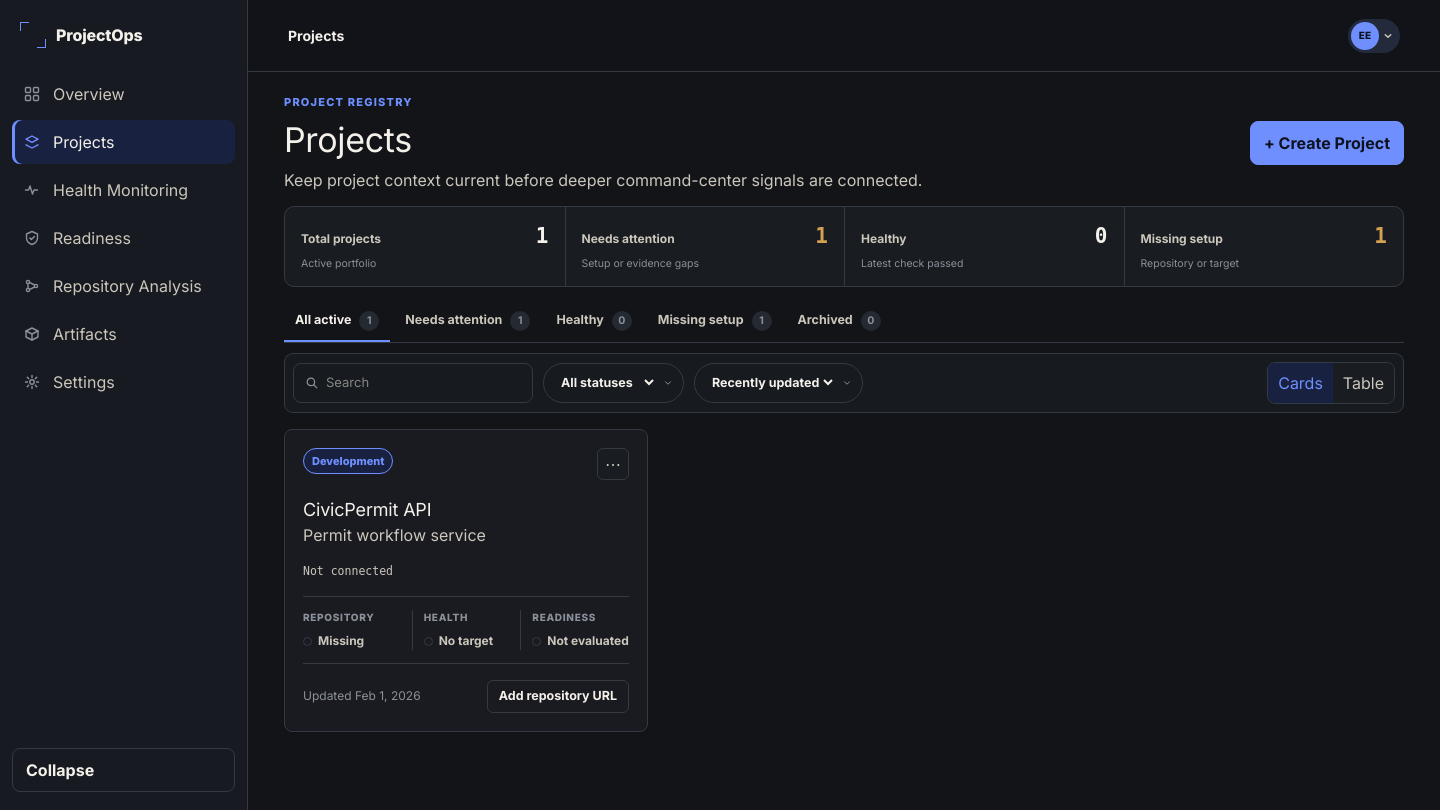
Archive Project flow › closes on Cancel without archiving
The image size is (1440, 810).
Click the button named "More actions for CivicPermit API": (613, 464) [597, 448, 629, 480]
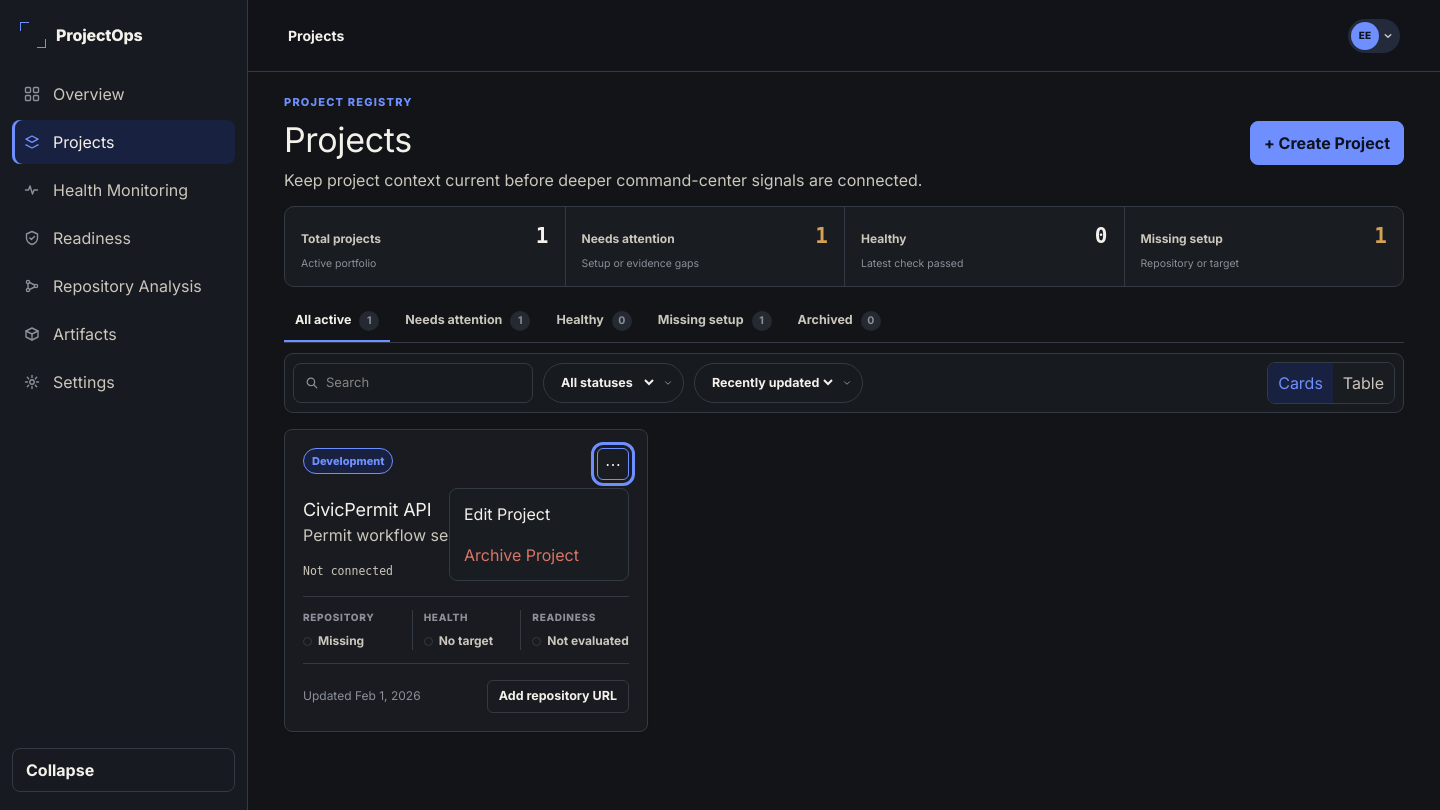
Click the menu item "Archive Project": (539, 555) [455, 535, 623, 575]
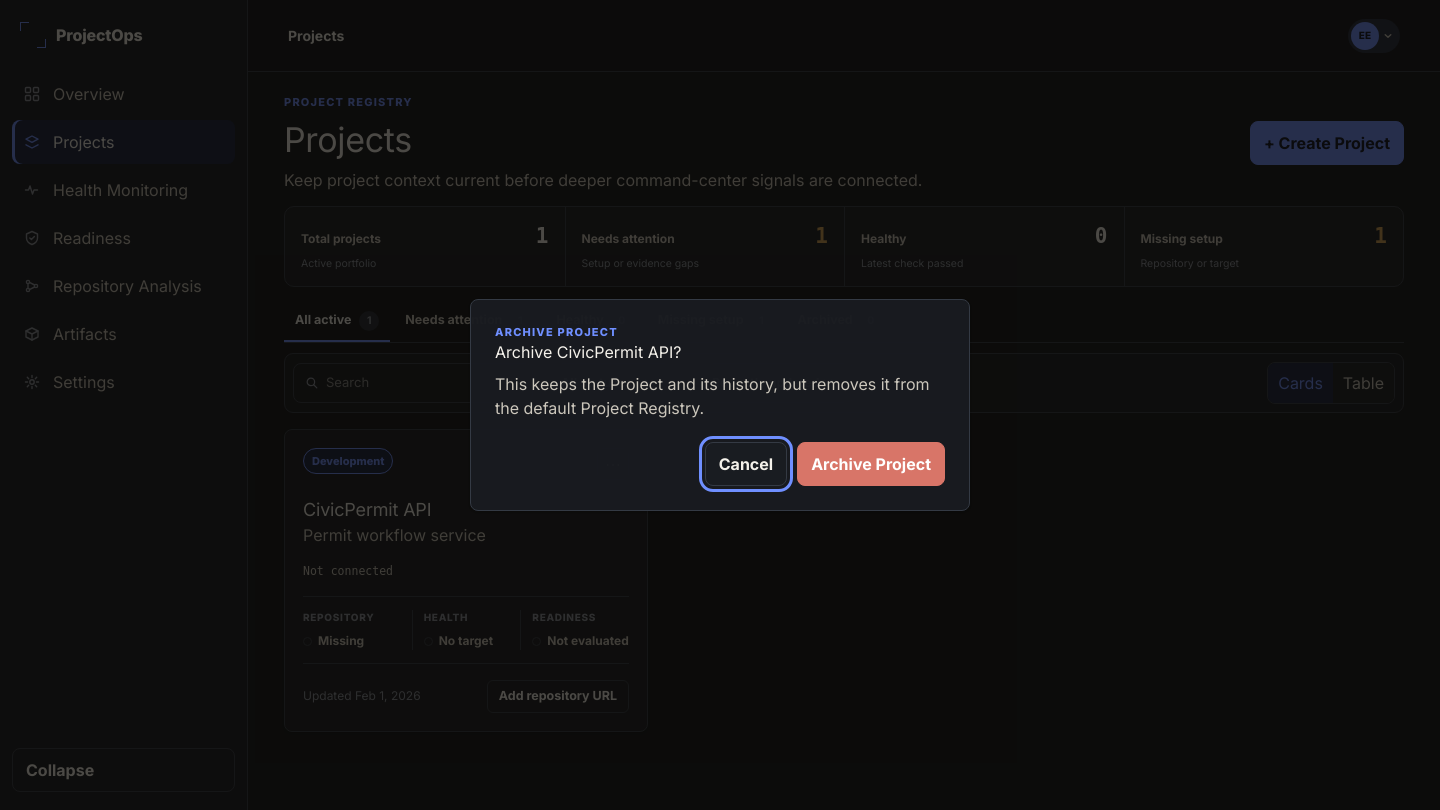
Click the button "Cancel": (746, 464) [705, 442, 787, 486]
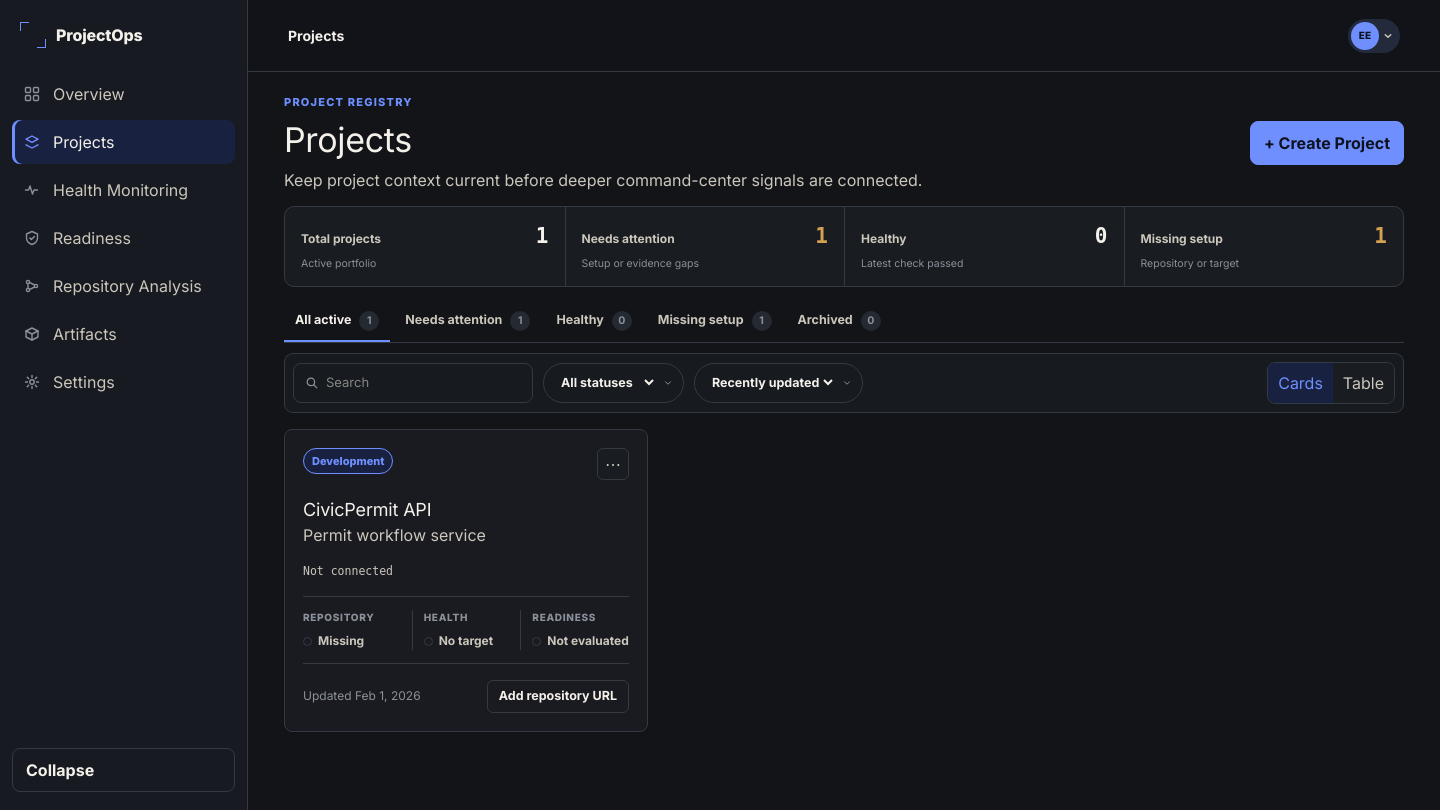
Result: the dialog is gone
